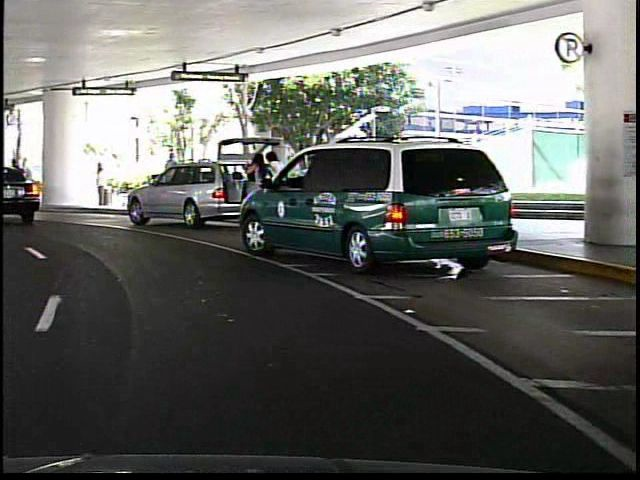person: (246, 148, 267, 226), (159, 148, 178, 204)
